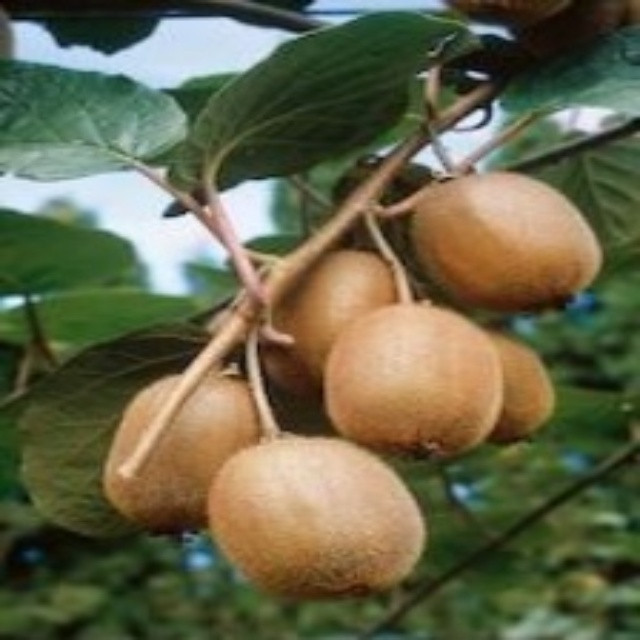kiwi: (222, 435, 411, 591), (329, 298, 499, 454), (101, 376, 258, 527), (423, 170, 595, 305), (279, 248, 395, 380)
